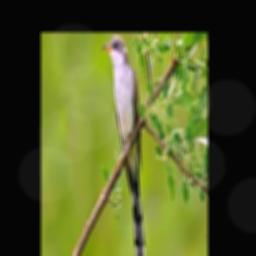Cuckoo: (102, 35, 146, 256)
